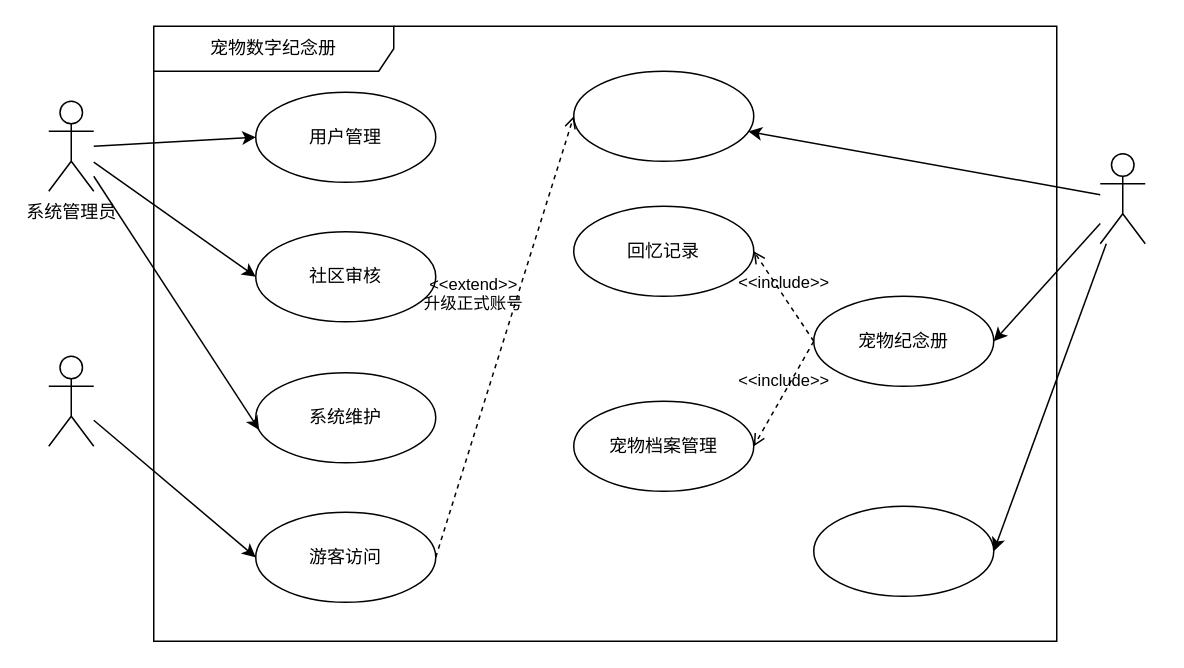
Some shapes in this 1184 by 668 pixel diagram are drawn without their labels. Each missing label, with the centre of its shape:
宠物微社区: pixel 903 550
普通用户: pixel 1122 198
游客: pixel 70 400
用户认证: pixel 663 115
